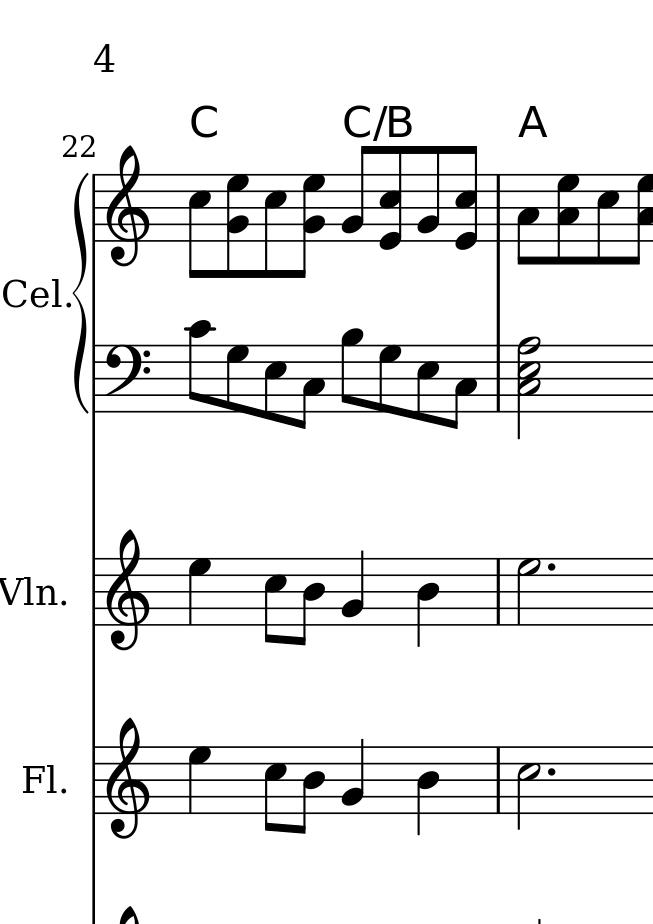2: (60, 133, 79, 159), (78, 133, 96, 159)
2_5: (515, 748, 541, 830)
2_7: (516, 556, 540, 627)
4: (93, 42, 115, 72)
4_2: (340, 549, 367, 627)
4_4: (416, 558, 441, 648), (416, 746, 441, 835)
4_7: (187, 558, 213, 627), (187, 746, 213, 814)
4_th: (516, 333, 542, 440)
8_0_5: (378, 144, 404, 250), (453, 146, 479, 252)
8_10: (187, 319, 213, 413)
8_2: (340, 144, 371, 242), (416, 145, 440, 242), (339, 738, 366, 815)
8_2_7: (294, 173, 326, 280), (226, 172, 251, 280)
8_3: (446, 344, 479, 432), (294, 343, 324, 430), (515, 172, 541, 268)
8_3_7: (556, 173, 580, 268), (629, 171, 653, 266)
8_4: (295, 747, 326, 836), (295, 559, 325, 648)
8_5: (262, 169, 288, 281), (186, 173, 210, 280), (595, 172, 620, 267), (262, 744, 288, 834), (263, 556, 288, 647), (262, 343, 287, 423), (415, 343, 439, 424)
8_7: (224, 343, 249, 415), (378, 344, 401, 416)
8_9: (340, 326, 363, 414)
Brace: (71, 167, 91, 412)
Cel: (1, 275, 64, 309)
Fclef: (102, 342, 150, 409)
Fl: (20, 762, 58, 795)
Gclef: (102, 716, 152, 840), (104, 145, 151, 269), (105, 528, 150, 653)
Single_barline: (490, 176, 506, 240), (492, 559, 507, 623), (491, 748, 506, 812), (492, 344, 506, 412), (88, 175, 102, 241), (88, 559, 102, 625), (88, 747, 102, 813), (89, 345, 102, 412)
Vln: (1, 574, 58, 613)
dot: (544, 765, 558, 779), (545, 560, 558, 573)
